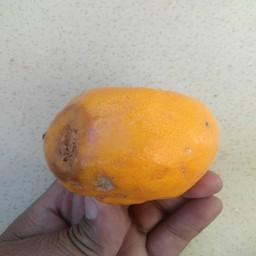Bad_orange: (36, 81, 223, 201)
